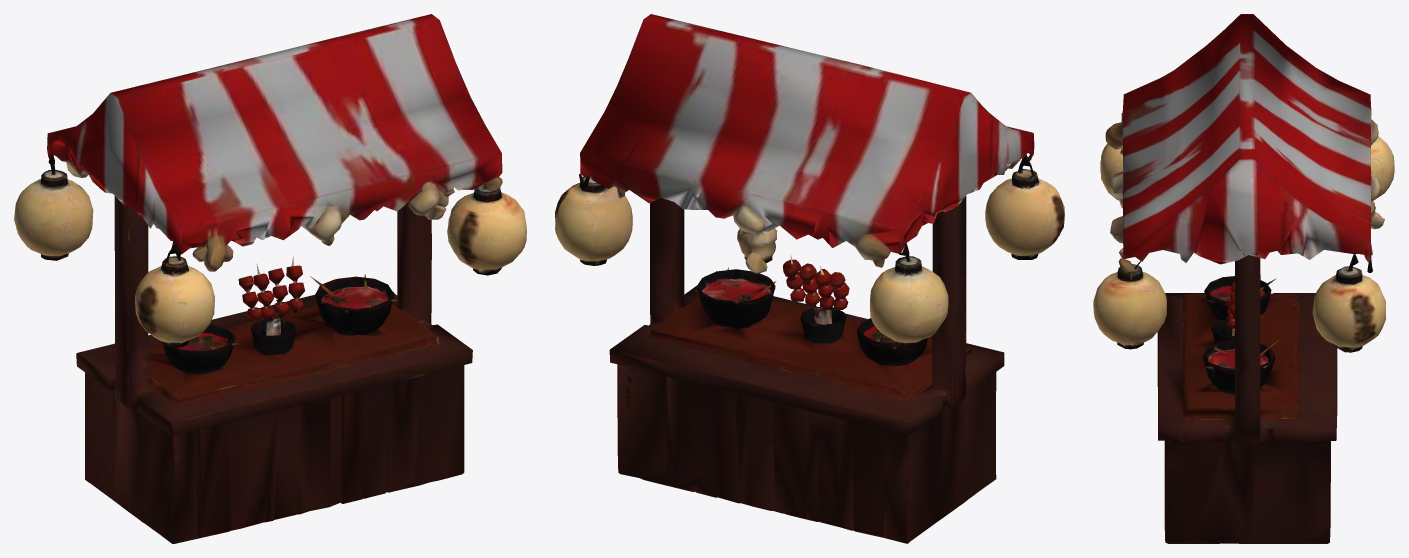
Rendered from prop_hanabi_stall.glb.
The picture shows the model from 3 angles, left to right: view 1: azimuth 30°, elevation 25°; view 2: azimuth 150°, elevation 25°; view 3: azimuth 270°, elevation 25°; orthographic projection. The views are drawn at different scales.
Parts seen in each view (by area): view 1: geometry_0; view 2: geometry_0; view 3: geometry_0.
Part boxes in pixels (box(x1,y1,x2,y2)): geometry_0: box(14, 14, 526, 543); geometry_0: box(555, 14, 1064, 543); geometry_0: box(1093, 14, 1394, 543).
Bounding box in the file's own units: 0.9626 × 1 × 0.6974.
Materials: 1 (1 with a texture image).
